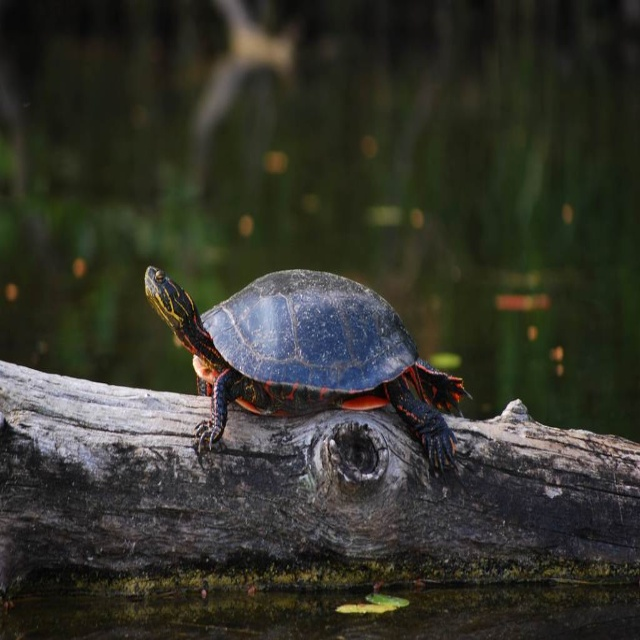Sea turtle: (140, 261, 475, 483)
